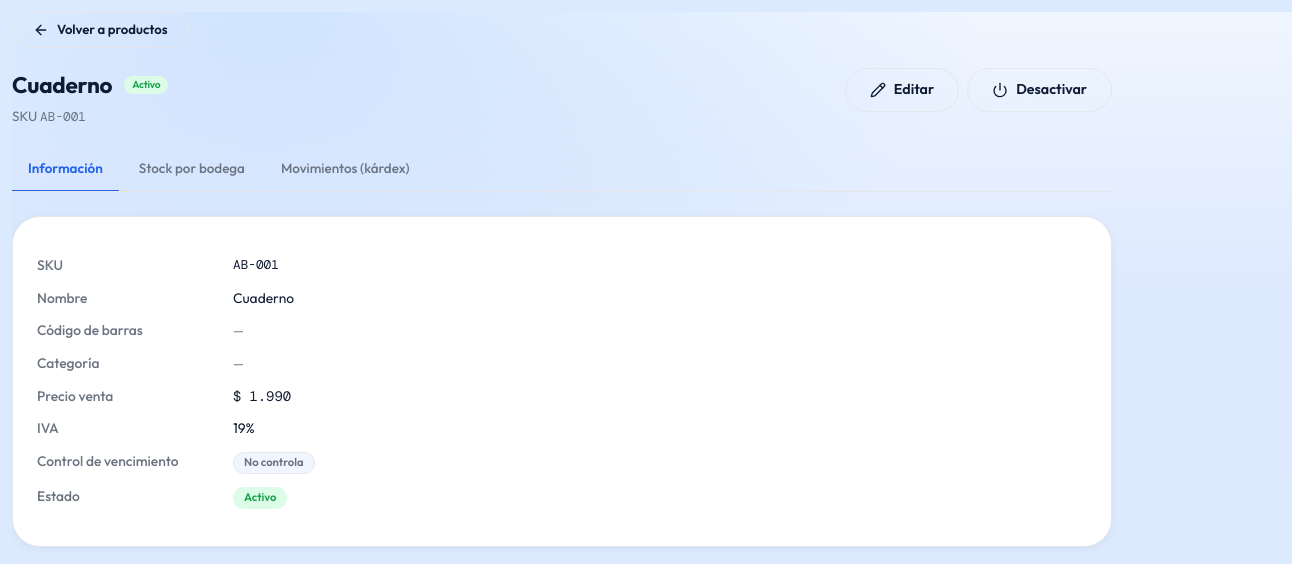
ProductoDetallePage — tab Stock › muestra stock por bodega con totales y valor
Expected: the heading "Cuaderno Activo" is shown, top-left (12, 68), bottom-right (168, 102)
Note: Cambia al tab Stock
Click the tab "Stock por bodega" at (192, 169), box top-left (123, 146), bottom-right (261, 192)
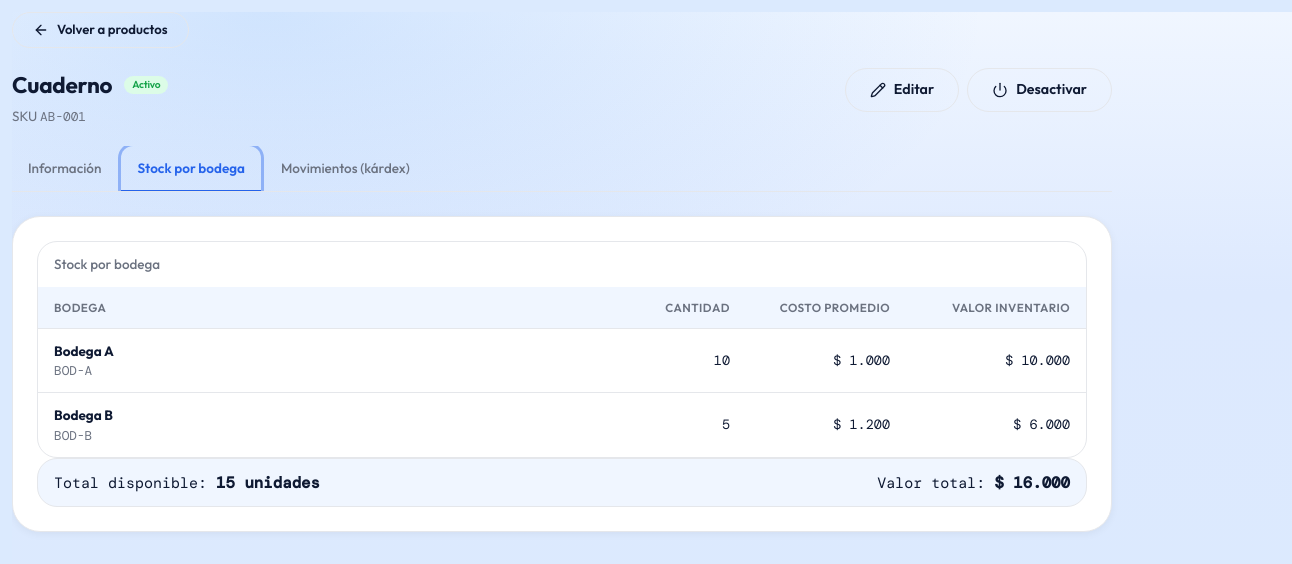
Expected: the text "Bodega A" is shown, top-left (54, 342), bottom-right (114, 360)
Expected: the text "Bodega B" is shown, top-left (54, 406), bottom-right (113, 424)
Expected: the text "15 unidades" is shown, top-left (216, 472), bottom-right (320, 493)
